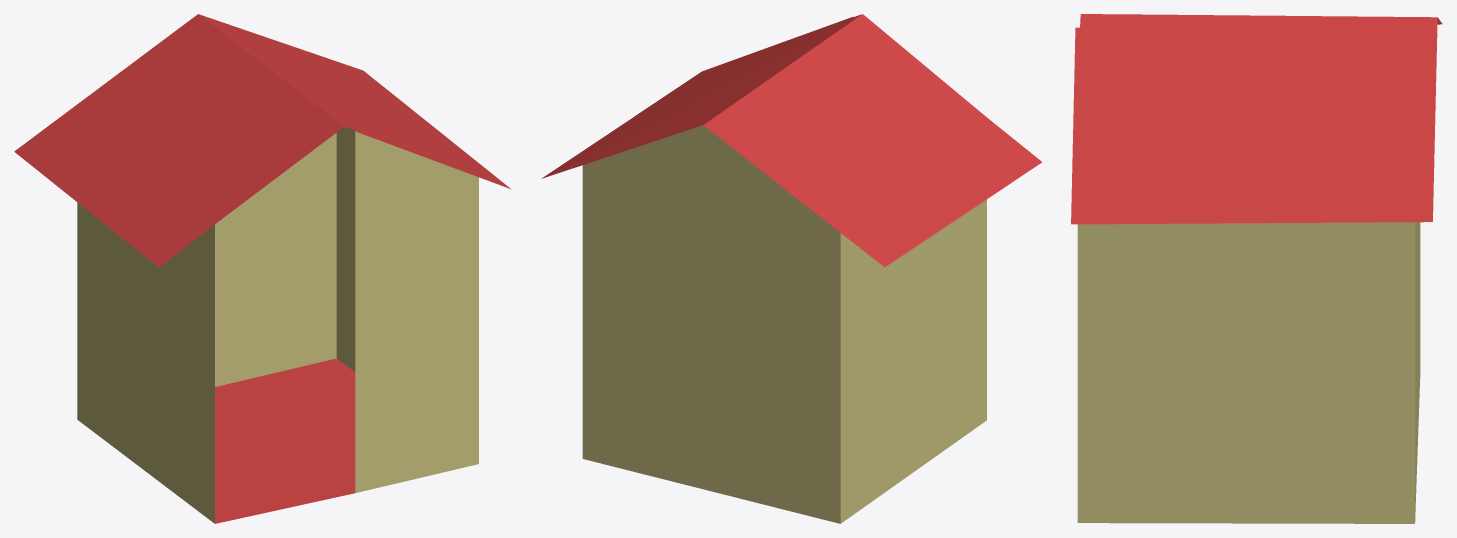
3 renders of one model, left to right at view 1: azimuth 30°, elevation 25°; view 2: azimuth 150°, elevation 25°; view 3: azimuth 270°, elevation 25°, orthographic. The views are drawn at different scales.
Size of the model in its own units: 8.45 by 6.61 by 8.49.
